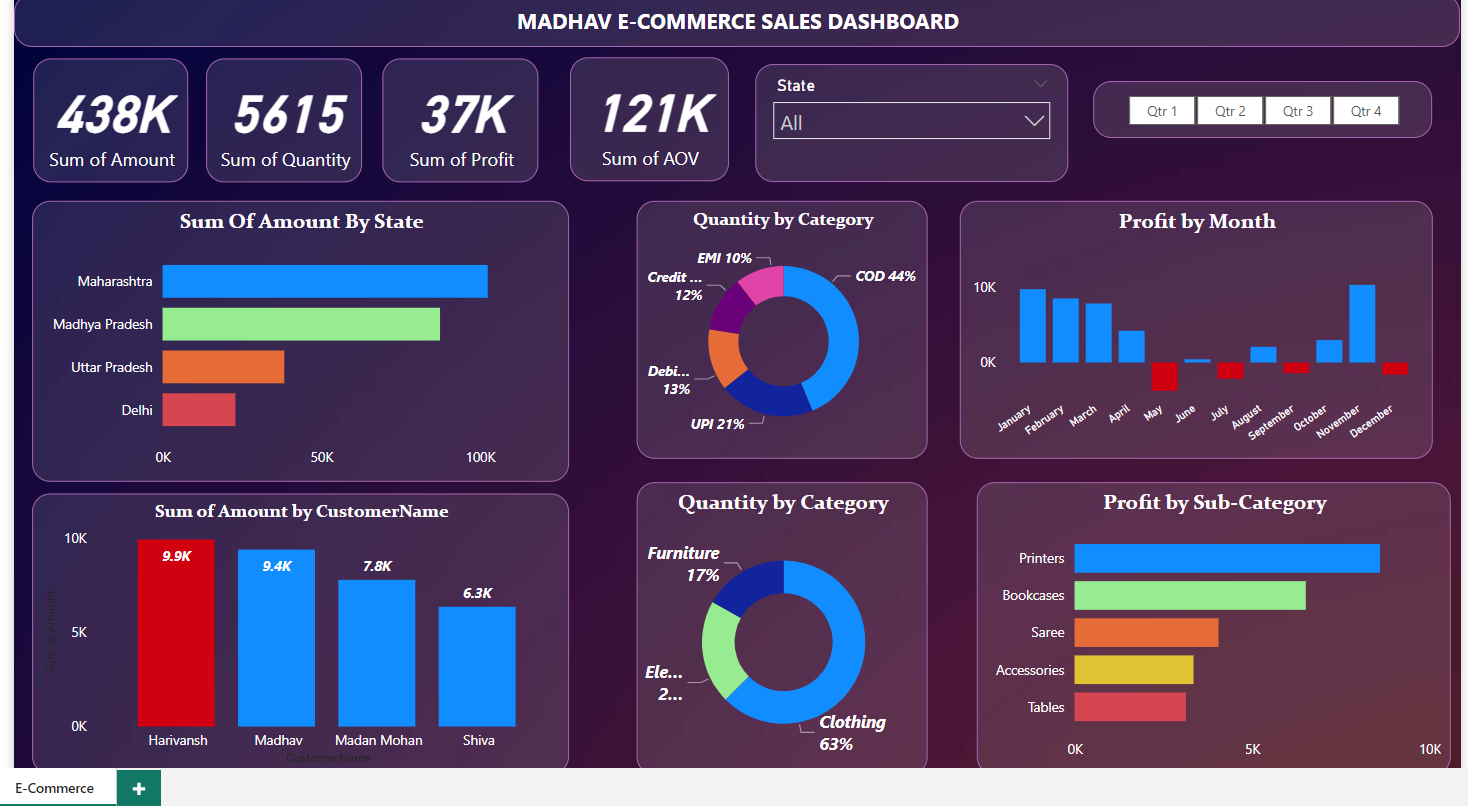

Layout of this report page (visuals, bound fields, positions):
{"tool":"powerbi","page":{"name":"Page 1","canvas":[1280,720],"ordinal":0},"visuals":[{"type":"textbox","box":[0,0,1279.4,46.7],"z":0},{"type":"columnChart","title":"Profit by Month","fields":{"Category":["Orders.Order Date.Variation.Date Hierarchy.Month"],"Y":["Details.Profit"]},"box":[837,183.3,417.9,227.6],"z":1000},{"type":"barChart","title":"Profit by Sub-Category","fields":{"Category":["Details.Sub-Category"],"Y":["Details.Profit"]},"box":[852.4,431.9,418.4,258.9],"z":2000},{"type":"donutChart","title":"Quantity by Category","fields":{"Category":["Details.Category"],"Y":["Details.Quantity"]},"box":[551,431.9,256.9,258.9],"z":3000},{"type":"donutChart","title":"Quantity by Category","fields":{"Y":["Details.Quantity"],"Category":["Details.PaymentMode"]},"box":[551,183.3,256.9,227.9],"z":4000},{"type":"card","fields":{"Values":["Details.Amount"]},"box":[16.6,57,137.7,109.8],"z":5000},{"type":"card","fields":{"Values":["Details.Quantity"]},"box":[169.9,57,137.7,109.8],"z":6000},{"type":"card","fields":{"Values":["Details.Profit"]},"box":[326.2,57,137.7,109.8],"z":7000},{"type":"card","fields":{"Values":["Details.AOV"]},"box":[492,55.9,139.8,109.8],"z":8000},{"type":"barChart","title":"Sum Of Amount By State","fields":{"Category":["Orders.State"],"Y":["Details.Amount"]},"box":[16.3,183.3,475.1,248.6],"z":9000},{"type":"columnChart","fields":{"Category":["Orders.CustomerName"],"Y":["Details.Amount"]},"box":[16.3,442.4,475.1,248.6],"z":10000},{"type":"slicer","fields":{"Values":["Orders.Order Date.Variation.Date Hierarchy.Quarter"]},"box":[954.9,77,300,50.2],"z":10001},{"type":"slicer","fields":{"Values":["Orders.State"]},"box":[656.1,61.9,276.7,103.9],"z":10002}]}

Visuals, with their boxes on the page's 1280x720 design canvas (x1, y1, x2, y2). These are canvas units, not pixel positions in the 1468x806 screenshot, which may show the page scaled, cropped or inside an application window:
textbox: left=0, top=0, right=1279, bottom=47
"Profit by Month" columnChart: left=837, top=183, right=1255, bottom=411
"Profit by Sub-Category" barChart: left=852, top=432, right=1271, bottom=691
"Quantity by Category" donutChart: left=551, top=432, right=808, bottom=691
"Quantity by Category" donutChart: left=551, top=183, right=808, bottom=411
card - Details.Amount: left=17, top=57, right=154, bottom=167
card - Details.Quantity: left=170, top=57, right=308, bottom=167
card - Details.Profit: left=326, top=57, right=464, bottom=167
card - Details.AOV: left=492, top=56, right=632, bottom=166
"Sum Of Amount By State" barChart: left=16, top=183, right=491, bottom=432
columnChart - Orders.CustomerName x Details.Amount: left=16, top=442, right=491, bottom=691
slicer - Orders.Order Date.Variation.Date Hierarchy.Quarter: left=955, top=77, right=1255, bottom=127
slicer - Orders.State: left=656, top=62, right=933, bottom=166
